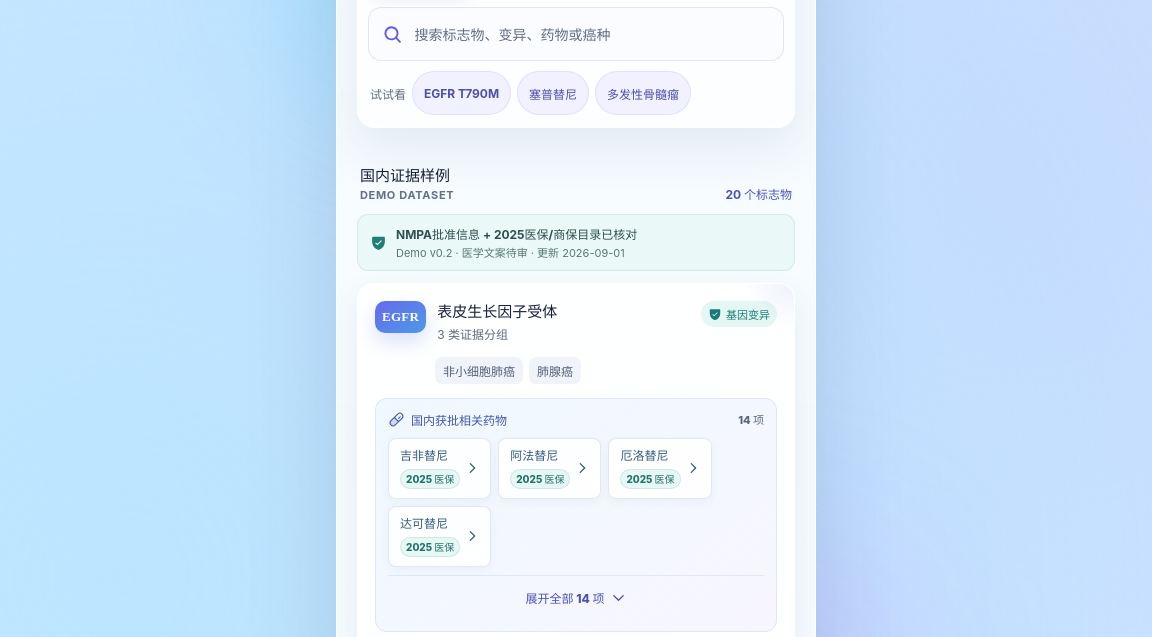
Gene lookup app › expands a therapy to show approval and coverage as separate facts
The width and height of the screenshot is (1152, 637).
(page scrolled)
Click the heading "表皮生长因子受体": (497, 312) [437,301,557,322]
(page scrolled)
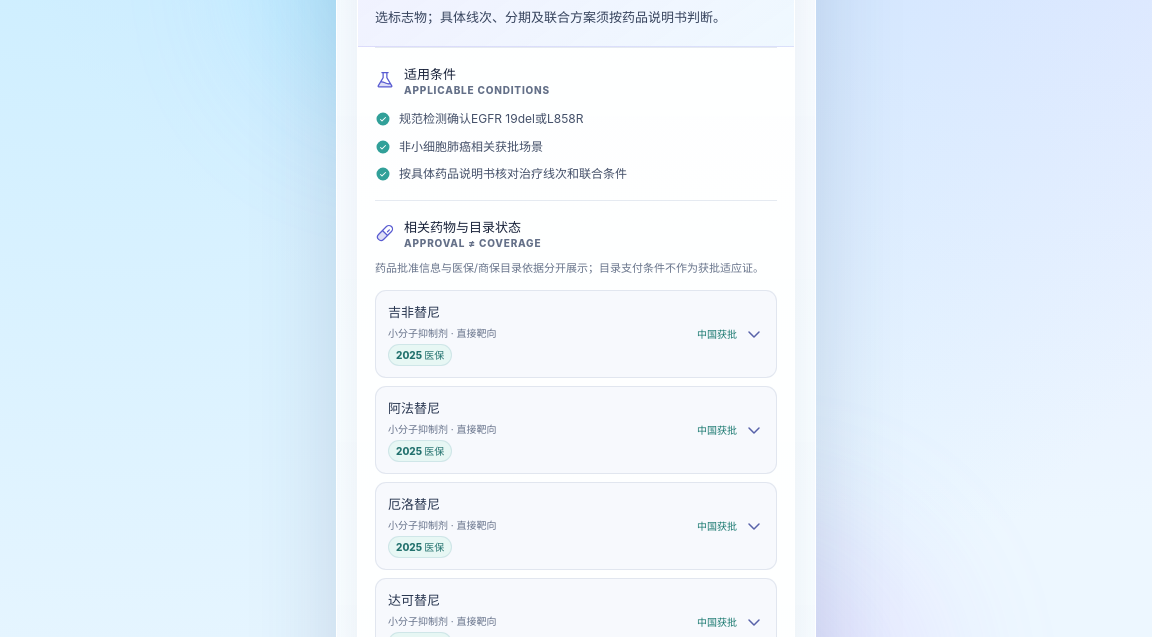
Click the text "吉非替尼": (414, 311) [388,302,440,321]
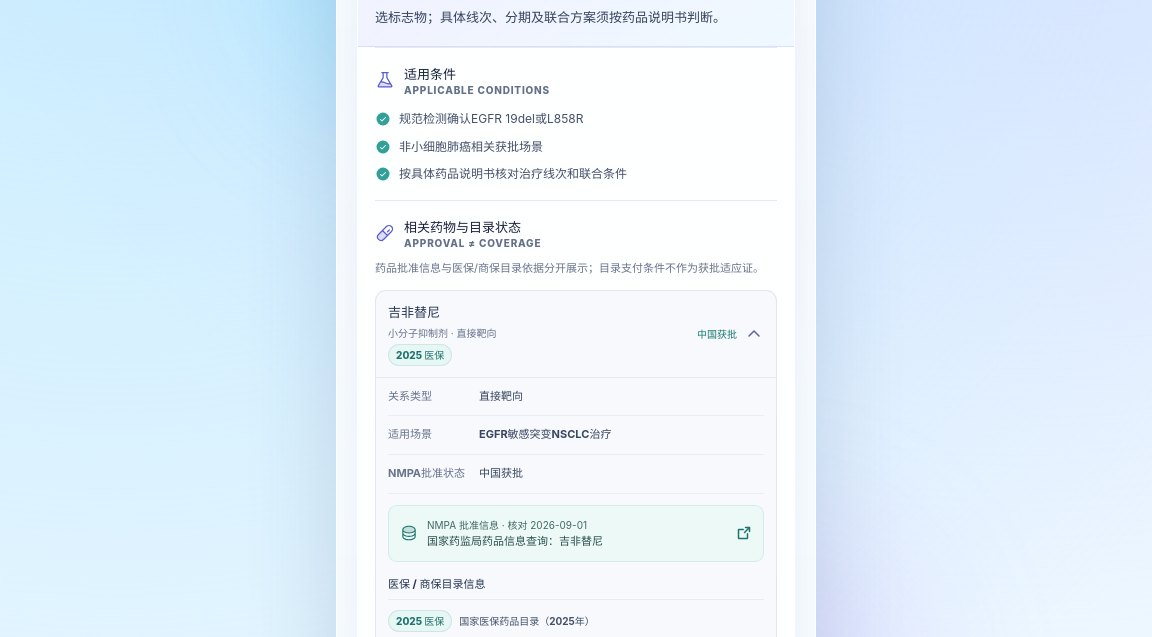
Expected: the text "药品批准信息与医保/商保目录依据分开展示；目录支付条件不作为获批适应证。" is shown, [375,259,777,277]
Expected: the text "NMPA批准状态" is shown, [388,465,470,483]
Expected: the heading "医保 / 商保目录信息" is shown, [388,577,486,591]
